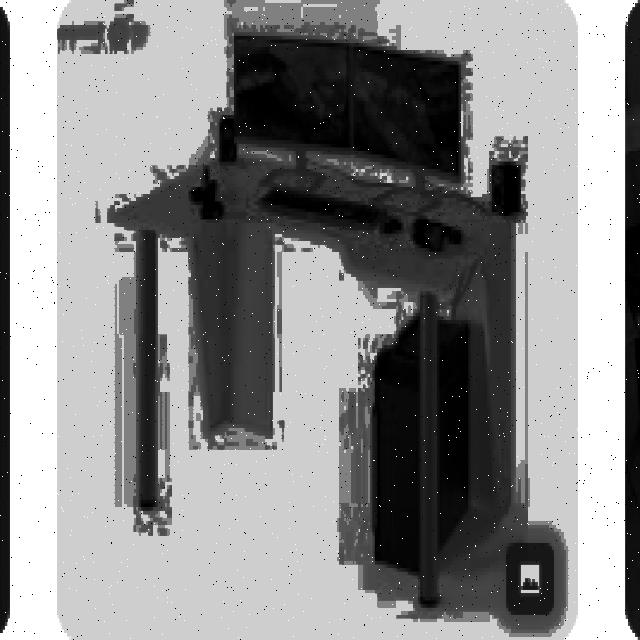table: (112, 144, 523, 604)
